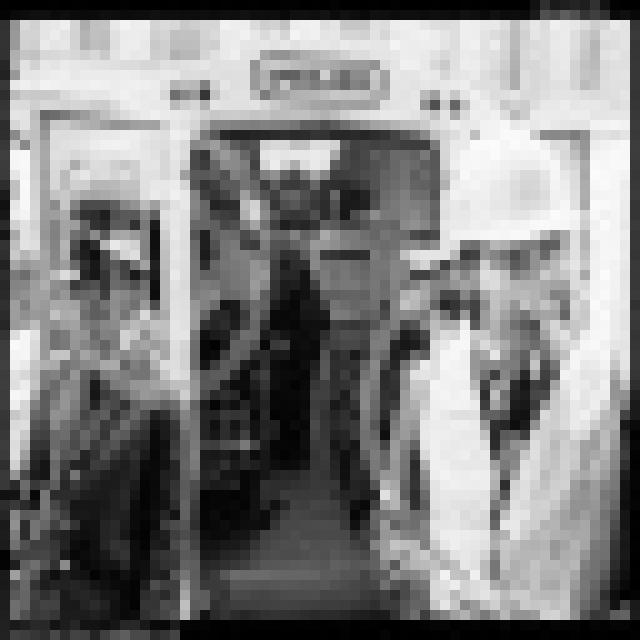Ambulance: (0, 10, 630, 630)
